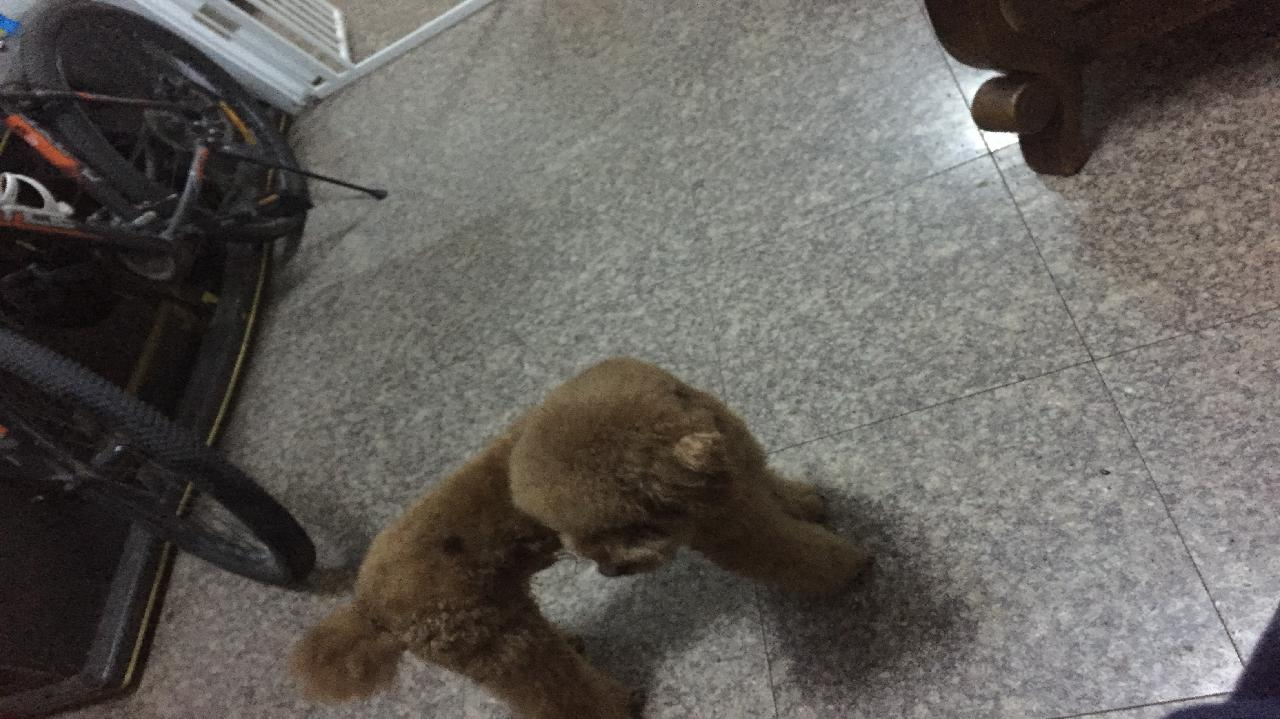zhuangzhuang: (300, 361, 900, 710)
